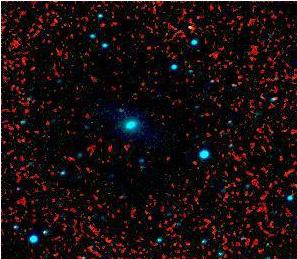star: (175, 12, 205, 42)
